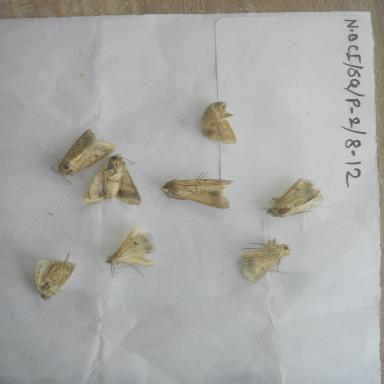abw: (46, 127, 122, 188), (93, 220, 168, 281), (155, 168, 242, 214), (84, 150, 150, 210), (258, 174, 330, 226), (27, 246, 86, 308), (231, 233, 297, 283), (192, 98, 244, 149)
